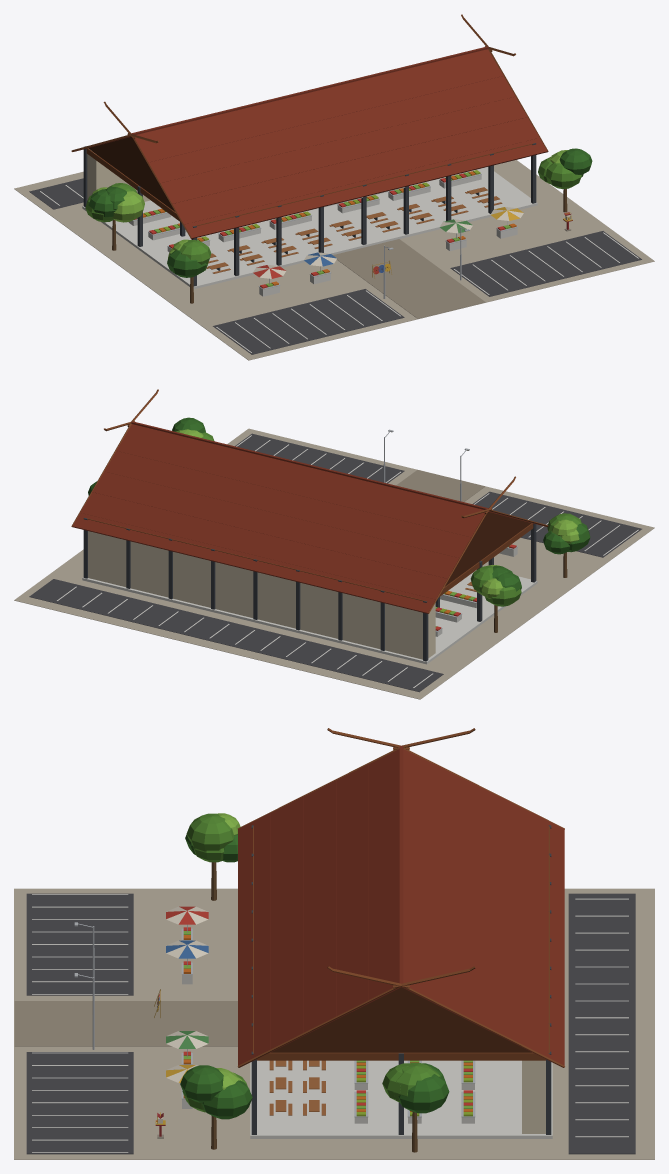
The model's file is market.glb.
3 views of the same model, one above another, from view 1: azimuth 30°, elevation 25°; view 2: azimuth 150°, elevation 25°; view 3: azimuth 270°, elevation 25° (orthographic). The views are drawn at different scales.
Parts seen in each view (by area): view 1: body; view 2: body; view 3: body.
Boxes of the visible parts, x1,y1,x2,y2 form: body: (14,14,654,360); body: (14,389,654,699); body: (14,728,654,1159).
Bounding box in the file's own units: 50.27 × 14.67 × 47.9.
